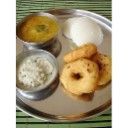vada: (61, 60, 99, 94), (91, 50, 111, 87), (65, 44, 98, 62)
